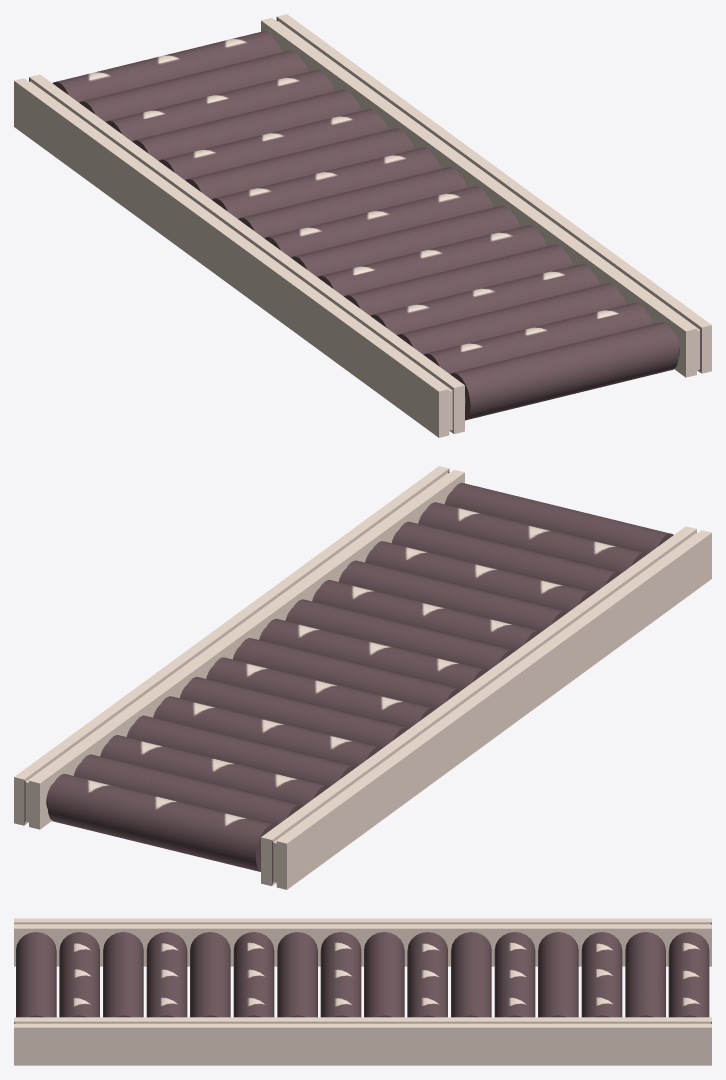
The model's file is band_sixteen_roll.fbx.
The picture shows the model from 3 angles, top to bottom: view 1: azimuth 30°, elevation 25°; view 2: azimuth 150°, elevation 25°; view 3: azimuth 270°, elevation 25°; orthographic projection. The views are drawn at different scales.
Parts seen in each view (by area): view 1: band_sixteen_roll; view 2: band_sixteen_roll; view 3: band_sixteen_roll.
Part boxes in pixels (left/top/right/bottom): band_sixteen_roll: left=14, top=14, right=711, bottom=437; band_sixteen_roll: left=14, top=466, right=711, bottom=889; band_sixteen_roll: left=14, top=918, right=711, bottom=1065.
Size of the model in its own units: 185 by 30 by 500.
